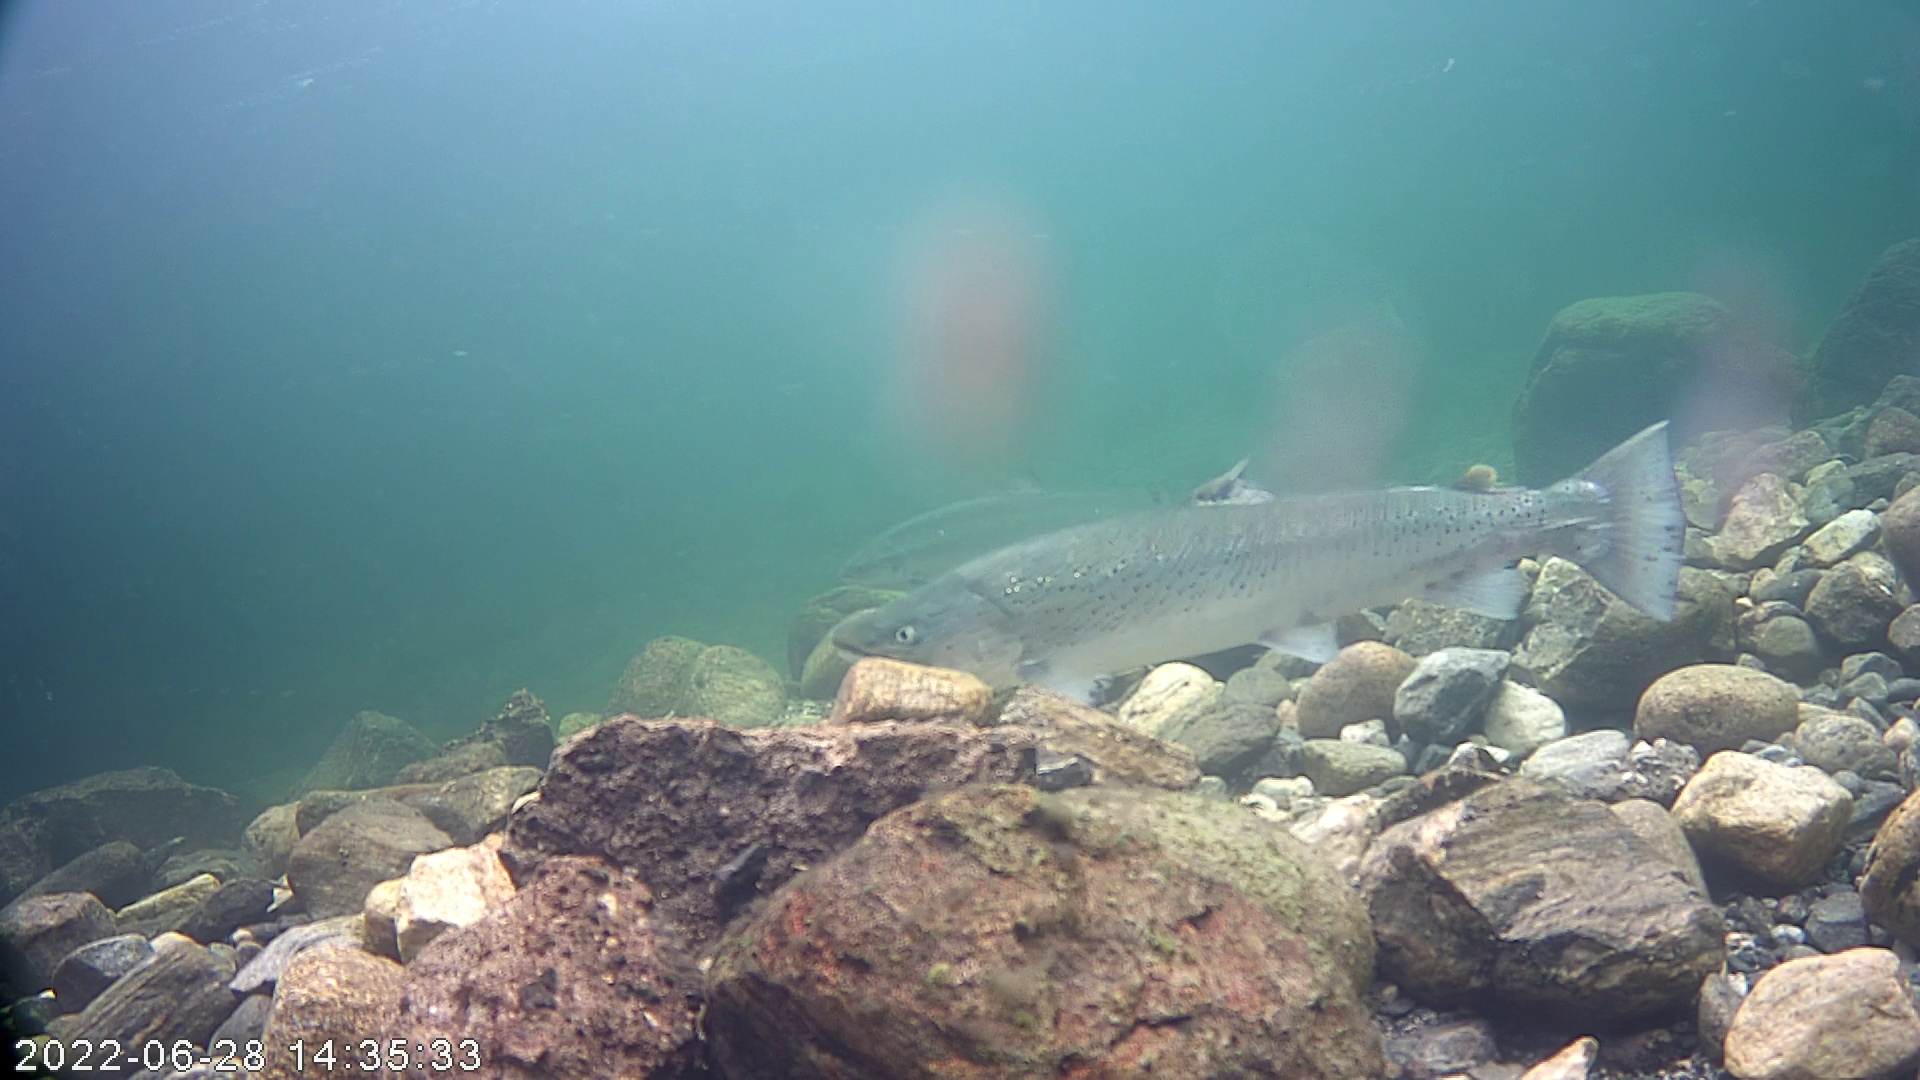salmon: (806, 311, 1725, 717)
